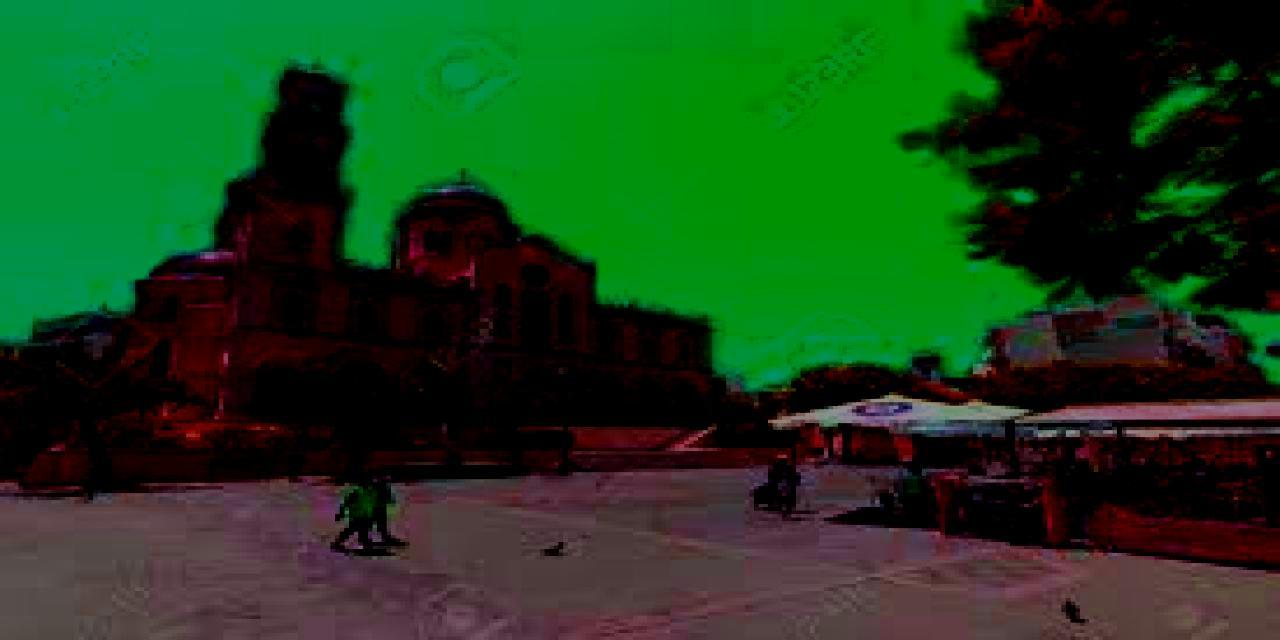Agios Minas: (118, 41, 728, 449)
